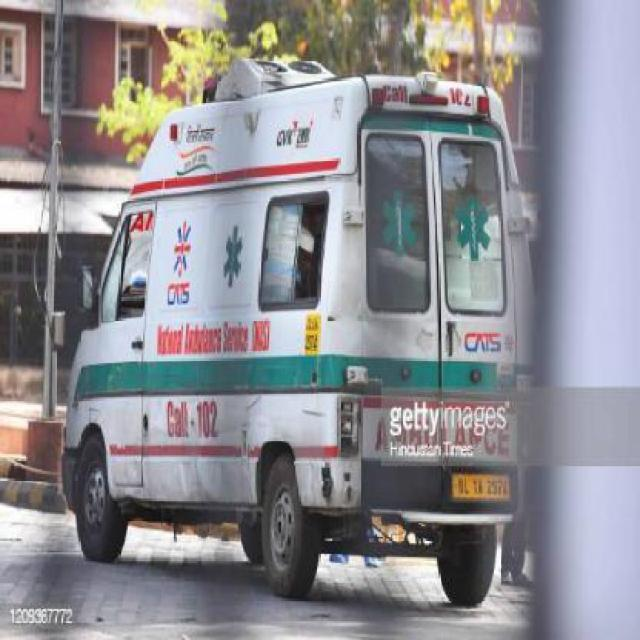Ambulance: (55, 53, 540, 610), (0, 469, 535, 638)
